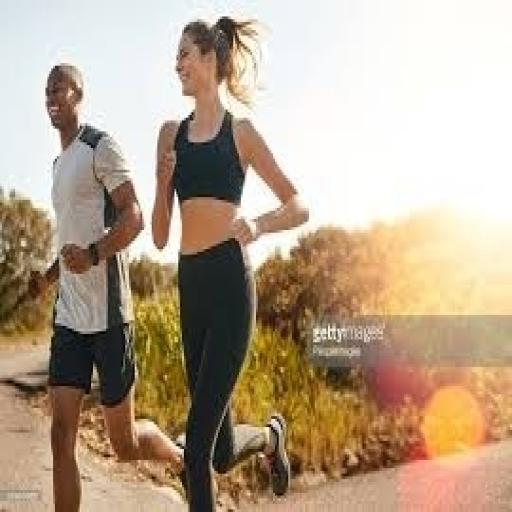running: (150, 11, 311, 509), (24, 58, 188, 510)
